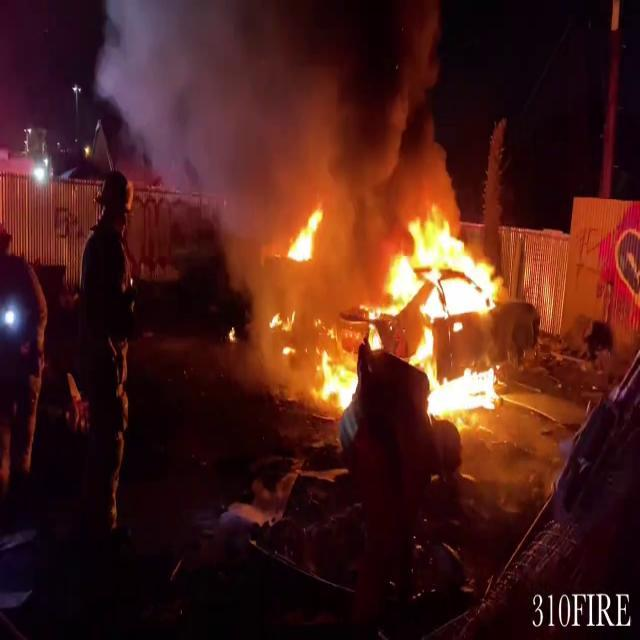Fire: (306, 200, 512, 424), (284, 198, 326, 269)
Smoke: (102, 0, 456, 238)
